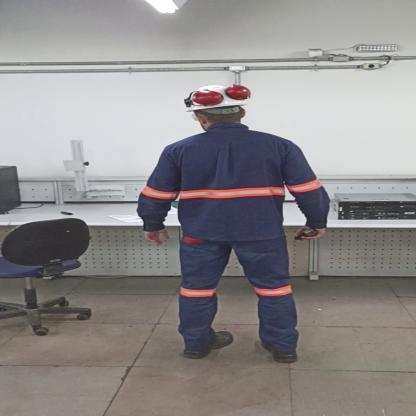Capacete: (175, 83, 255, 107)
